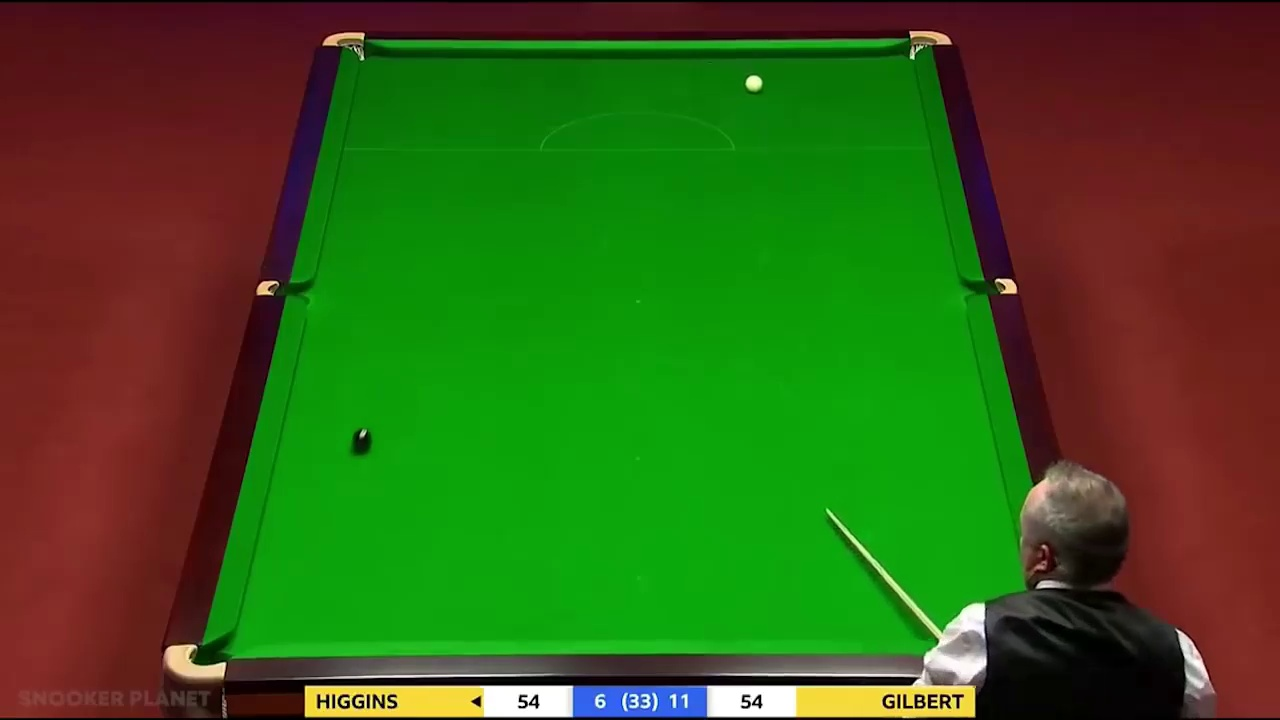ball: (742, 74, 770, 94)
